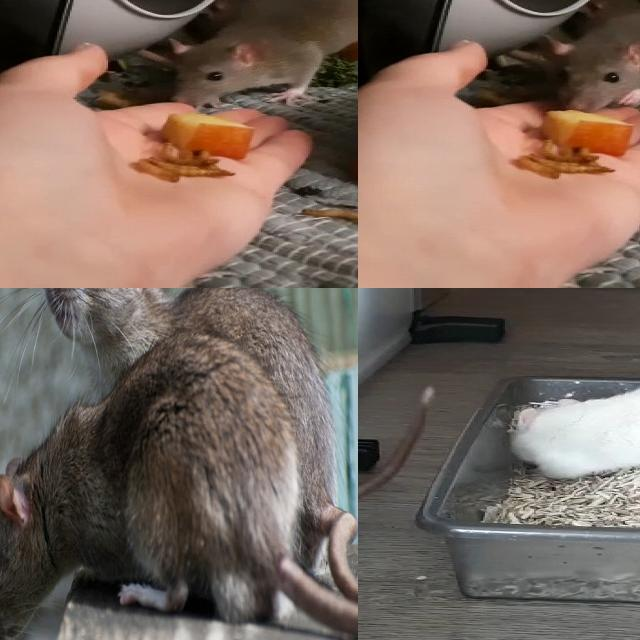rat: (0, 330, 291, 640), (39, 288, 353, 528), (162, 0, 358, 113), (508, 366, 640, 502), (546, 7, 640, 118)
